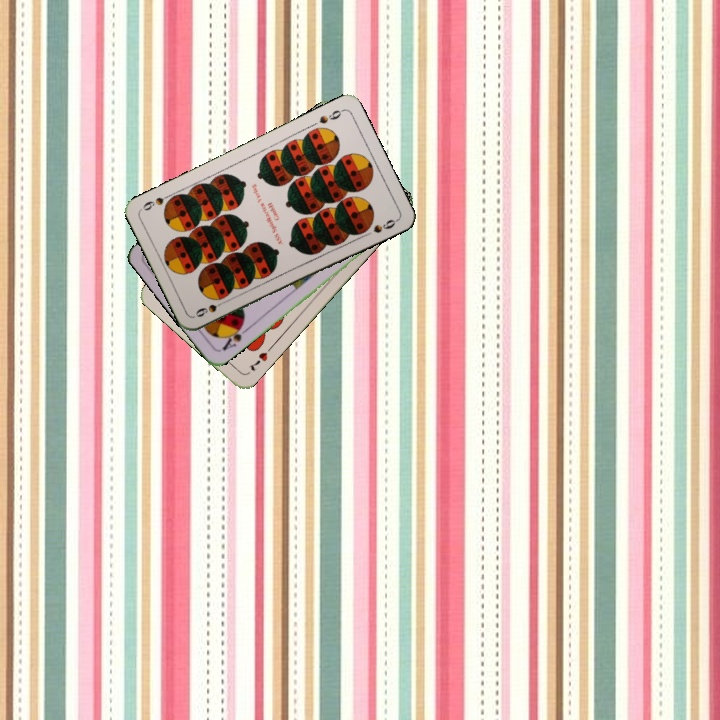H7: (245, 348, 270, 374)
S9: (191, 296, 229, 320), (315, 105, 346, 126)
SA: (218, 319, 251, 353)
